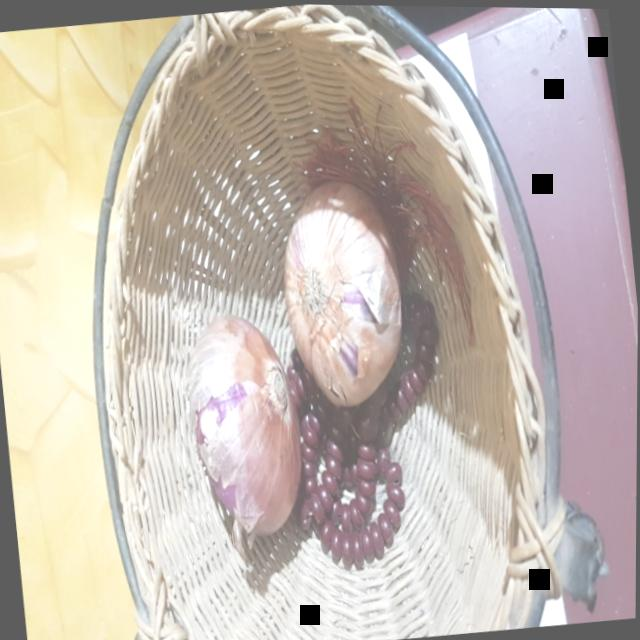onion: (267, 156, 434, 413), (166, 295, 326, 553)
